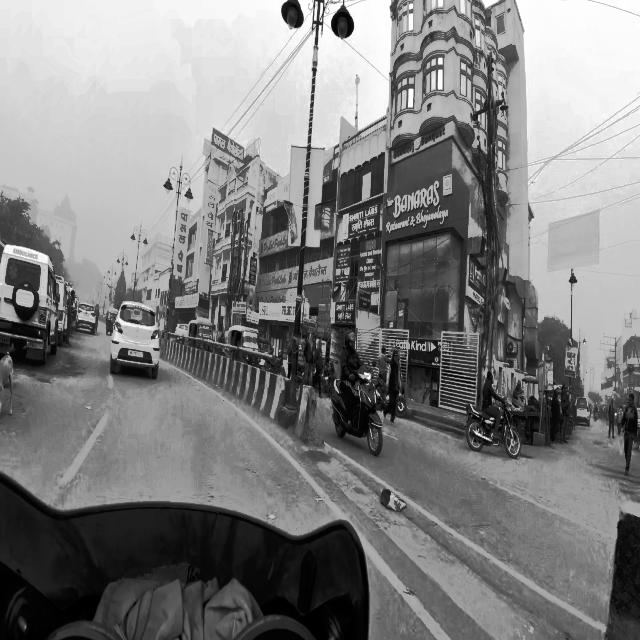Auto-Rickshaw: (228, 320, 262, 368), (188, 314, 215, 350)
Car: (0, 242, 60, 364), (330, 331, 385, 461), (465, 371, 524, 463), (107, 296, 162, 385), (75, 298, 98, 338), (574, 395, 592, 428)
